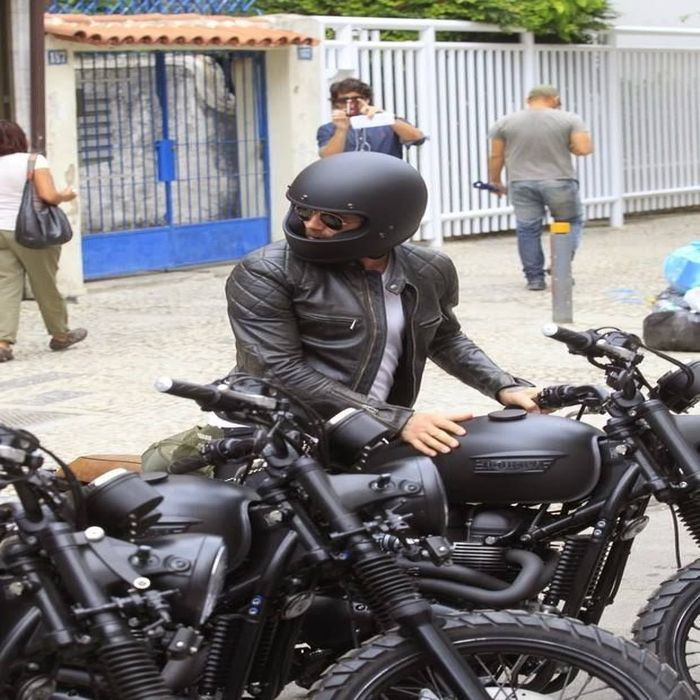h: (284, 150, 428, 267)
